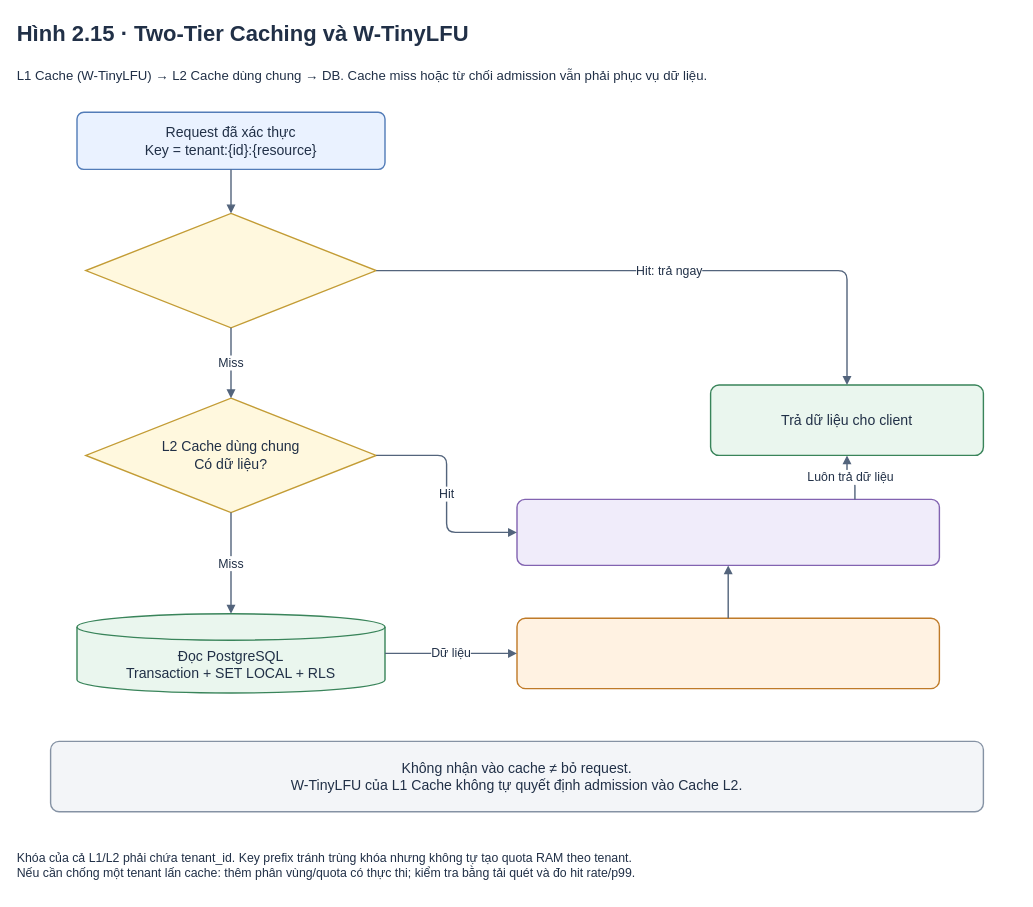
Image size: 1033x907. Some labels were removed from this diagram. The centre of each missing label's shape, as x and y in pixels:
"Cân nhắc cập nhật L1 W-TinyLFU quản lý window/main" belongs at [728,532].
"Dữ liệu đọc từ DB Cập nhật L2 theo TTL / quota / chính sách" belongs at [728,653].
"L1 Cache Có dữ liệu?" belongs at [230,270].
